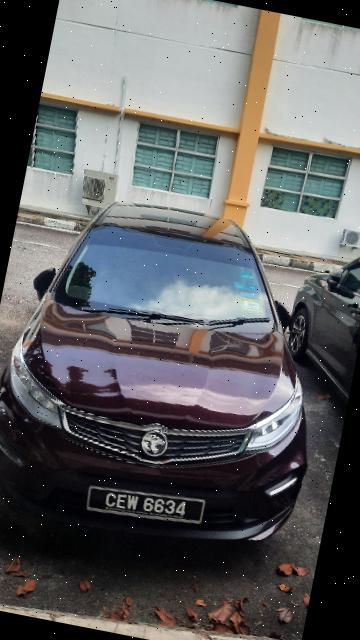License_Plate: (82, 477, 210, 533)
car: (1, 177, 357, 574)
